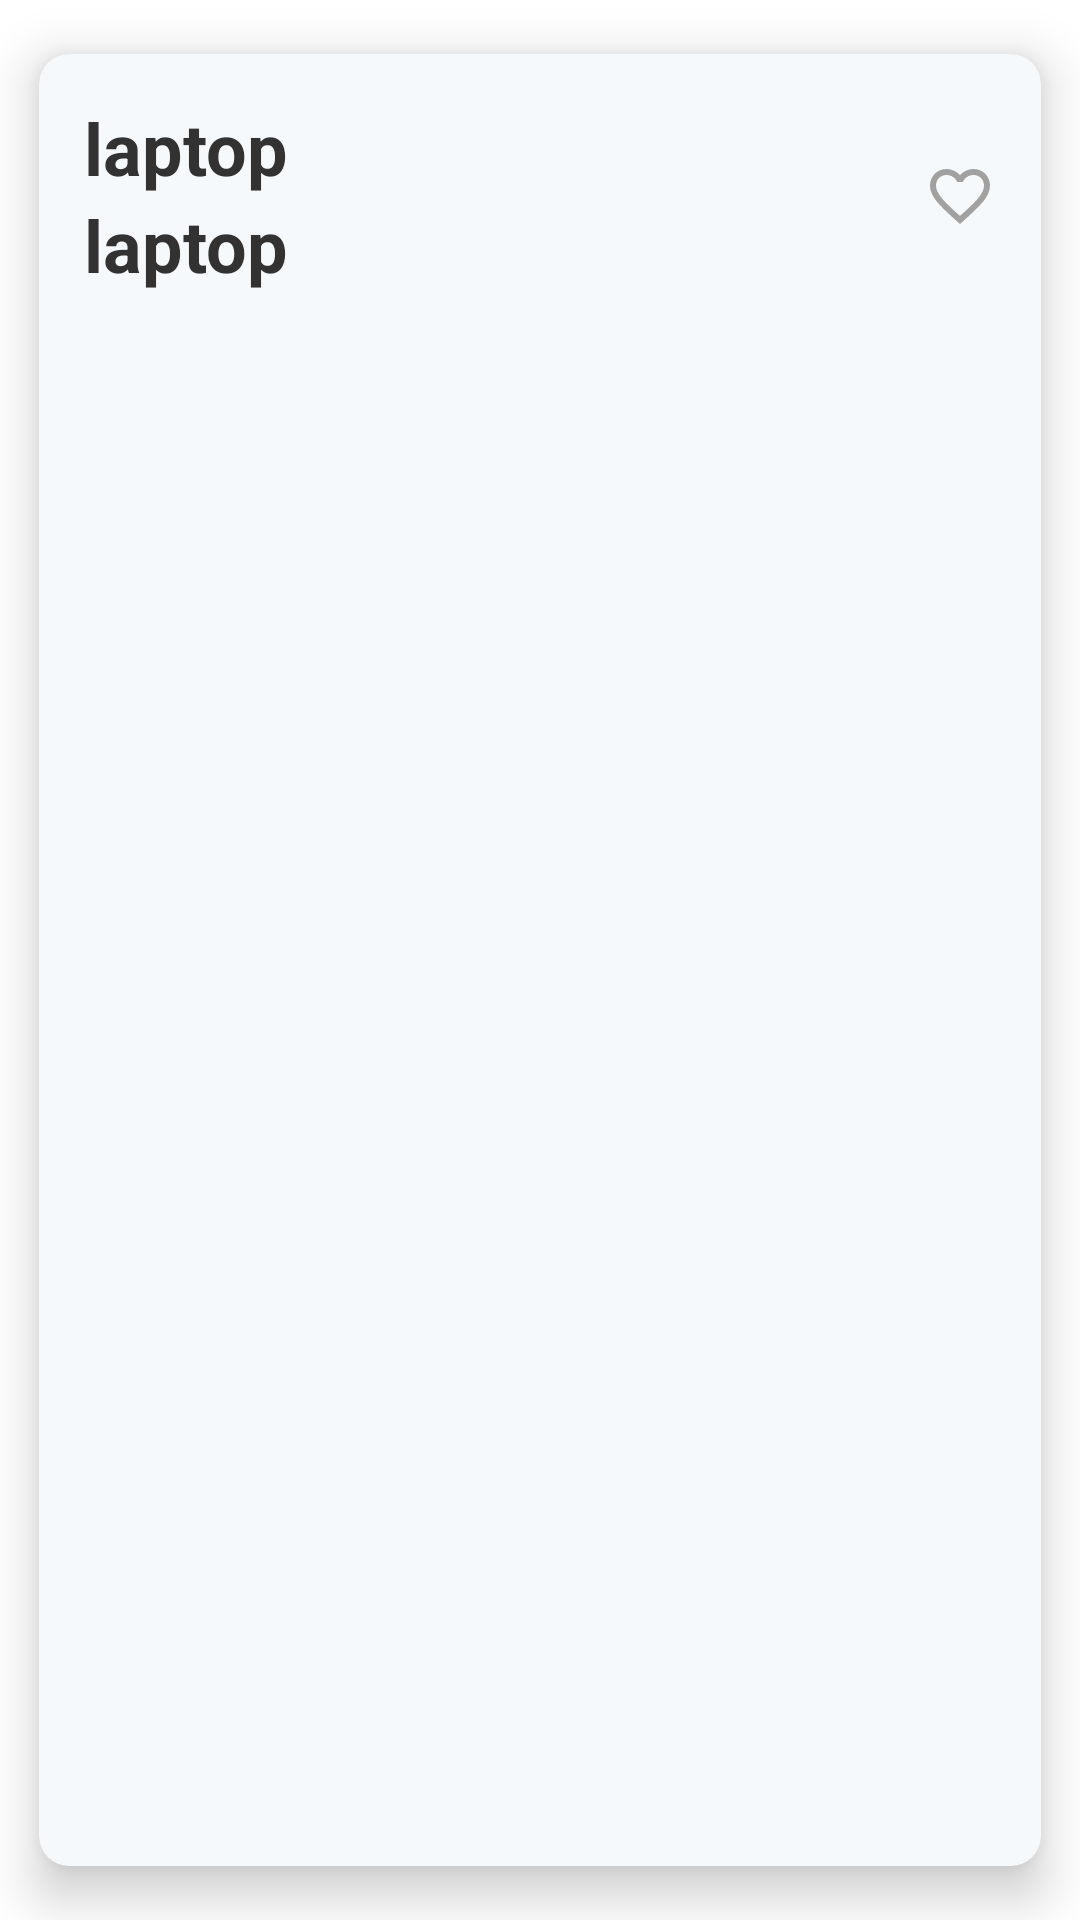

Screen size 1080w x 1920h. Icon name, then its box in pixels as (x1, y1, x2, y2):
favorite border: (930, 169, 990, 224)
